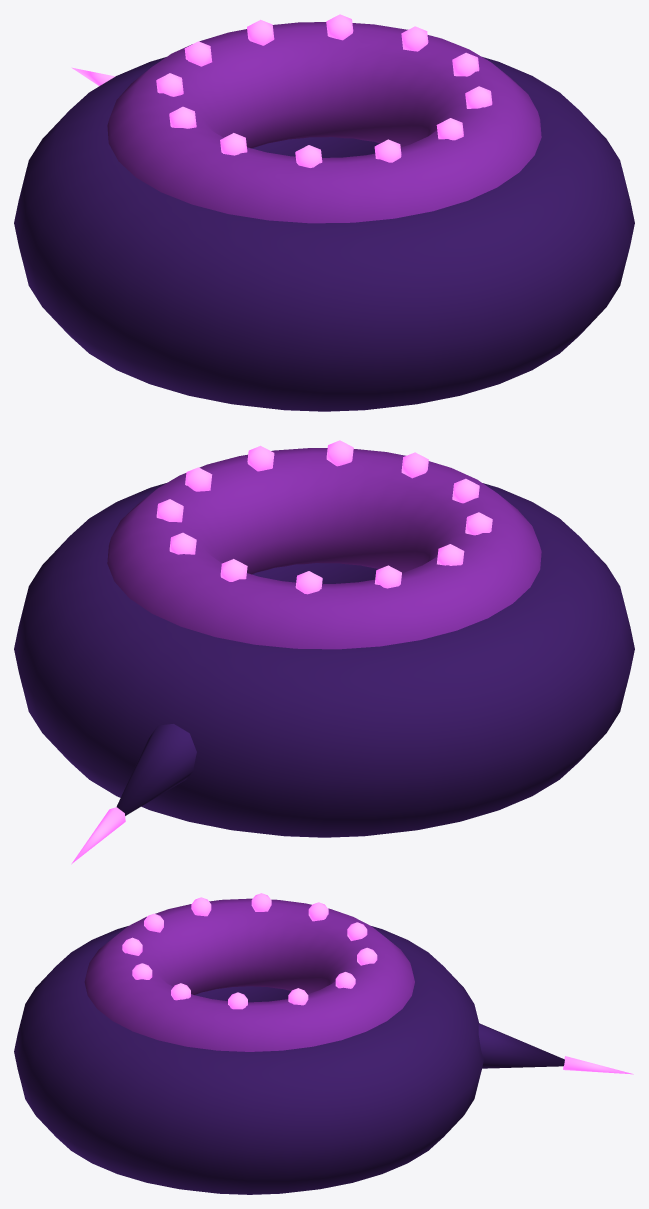
Rendered from boss_serpent_coil.glb.
3 views of the same model, one above another, from view 1: azimuth 30°, elevation 25°; view 2: azimuth 150°, elevation 25°; view 3: azimuth 270°, elevation 25° (orthographic). The views are drawn at different scales.
Visible parts, largest first — view 1: Torus; view 2: Torus; view 3: Torus.
Boxes of the visible parts, x1,y1,x2,y2 form: Torus: (14,14,634,411); Torus: (14,440,634,864); Torus: (14,893,633,1194).
Size of the model in its own units: 3 by 1.25 by 3.95.
